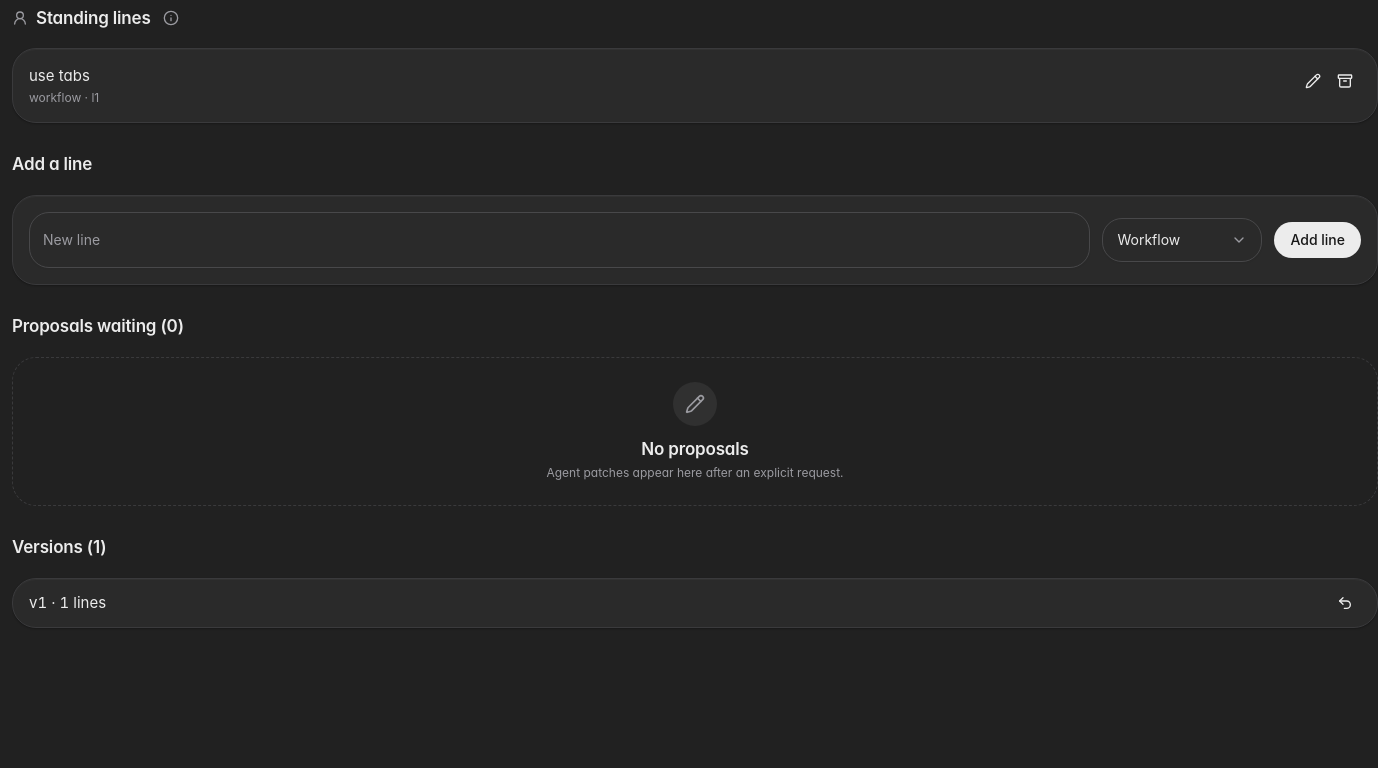
Test case: ProfileSettings › restores a version as a new version
Click the button named "Restore version 1" at {"x": 1345, "y": 603}, box [1329,587,1361,619]
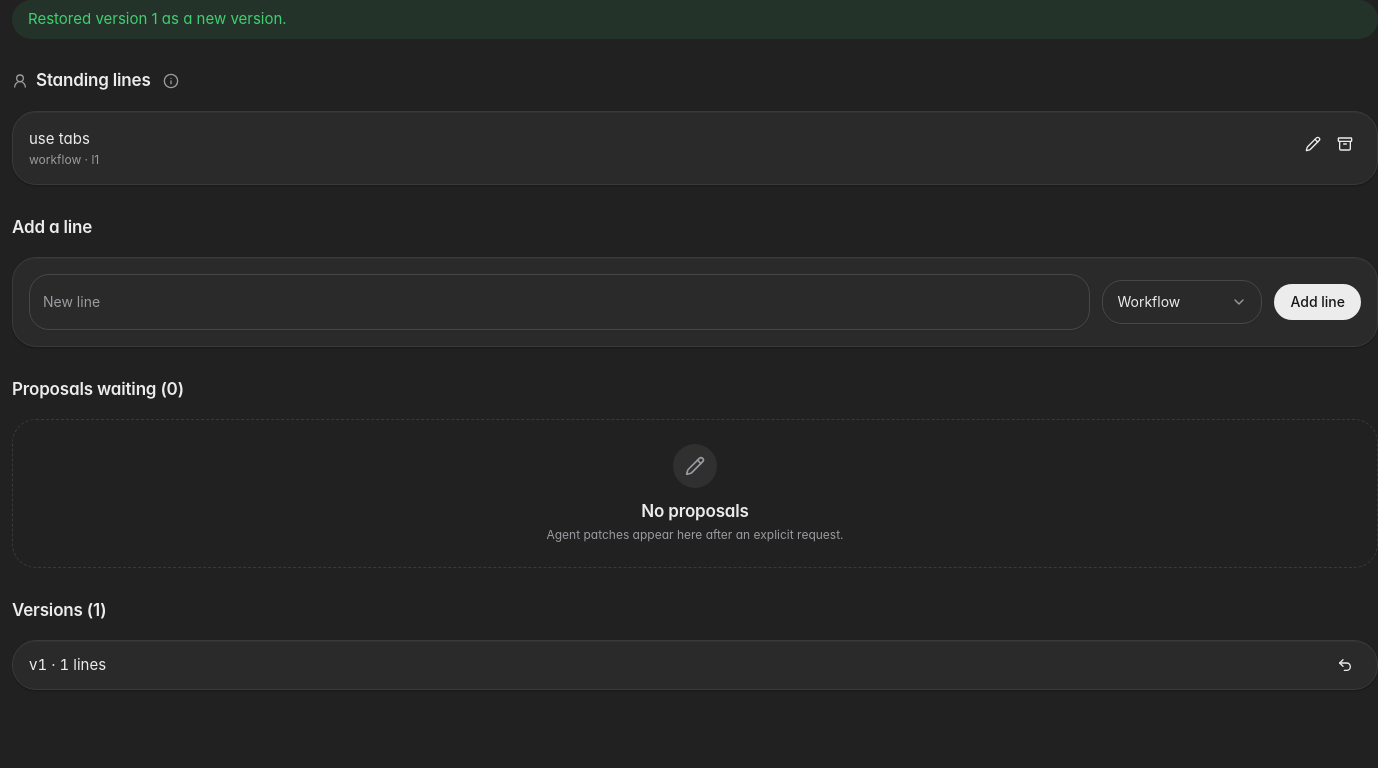
Check: the text "Restored version 1 as a new version." is shown, box [12,0,1377,38]
